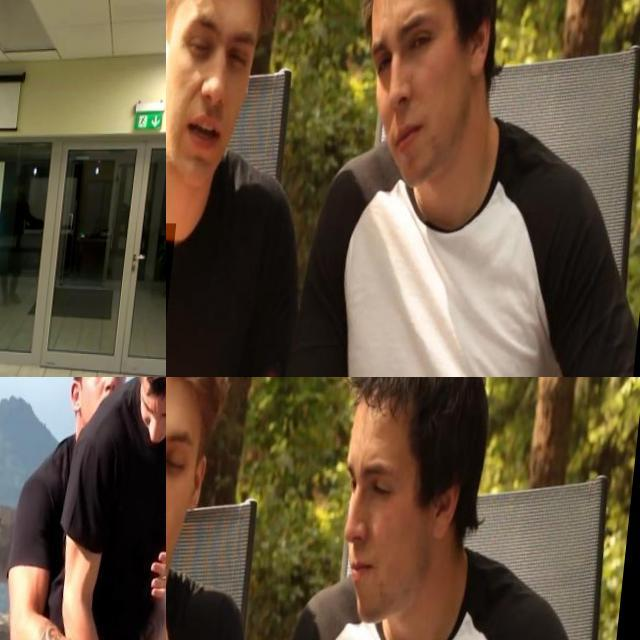-: (166, 222, 208, 377)
gun-knife-thesis - v11 Yolov5 augmented: (0, 283, 18, 321)
